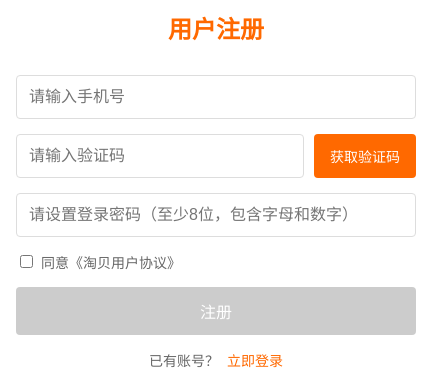
Test case: RegisterForm › 应该显示验证码发送倒计时
The image size is (433, 385).
Type "13800138000" into the field with placeholder "请输入手机号".
click(216, 97); type("13800138000")  # box top-left (16, 75), bottom-right (416, 119)
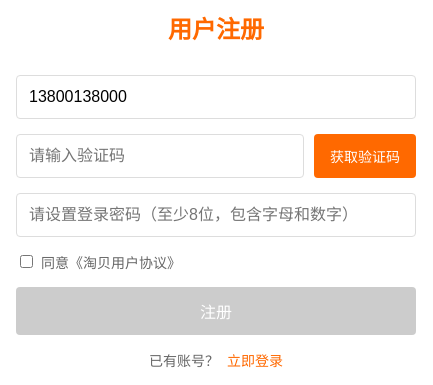
Click the button "获取验证码".
click(365, 156)  # box top-left (314, 134), bottom-right (416, 178)
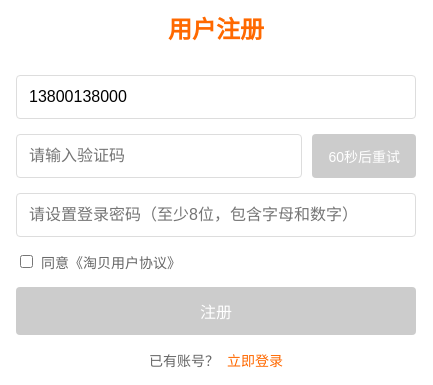
Expected: the button "60秒后重试" is disabled, top-left (312, 134), bottom-right (416, 178)
